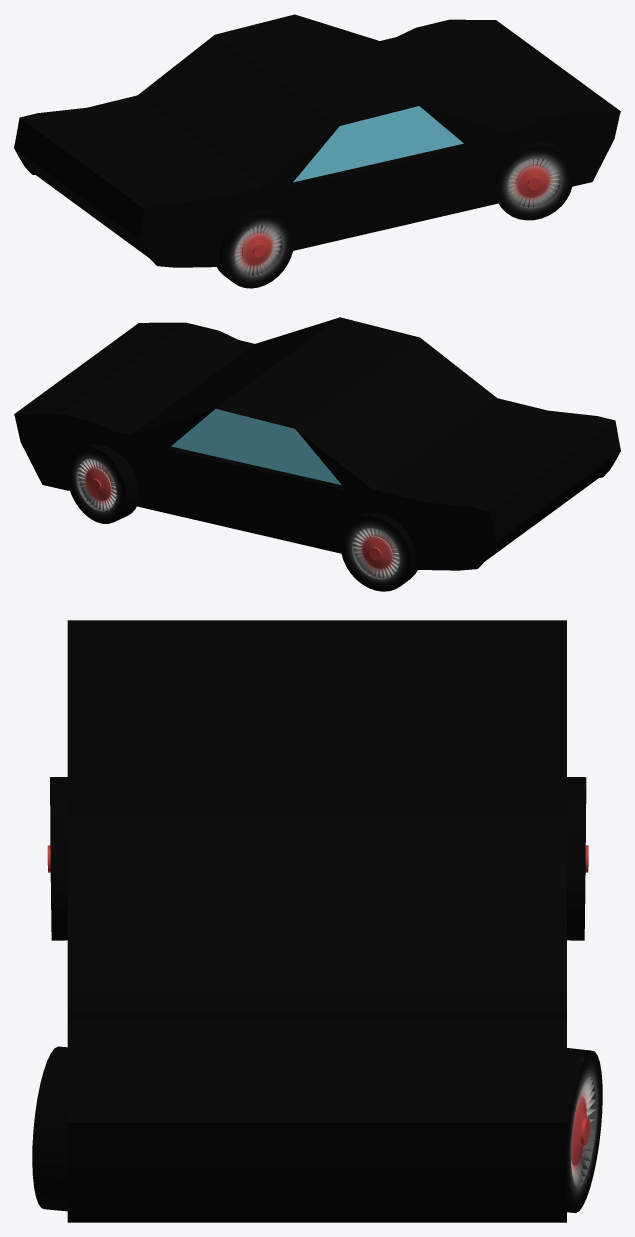
File: car.gltf
3 views of the same model, one above another, from view 1: azimuth 30°, elevation 25°; view 2: azimuth 150°, elevation 25°; view 3: azimuth 270°, elevation 25° (orthographic). The views are drawn at different scales.
Visible parts, largest first — view 1: Cube, Cylinder.001, Cylinder; view 2: Cube, Cylinder.002, Cylinder.003; view 3: Cube, Cylinder.001, Cylinder.003, Cylinder.002, Cylinder.
Boxes of the visible parts, x1,y1,x2,y2 form: Cube: (14, 14, 620, 267); Cylinder.001: (496, 141, 573, 220); Cylinder: (217, 209, 293, 288); Cube: (14, 317, 620, 570); Cylinder.002: (340, 512, 417, 591); Cylinder.003: (67, 444, 138, 523); Cube: (67, 620, 566, 1222); Cylinder.001: (32, 1046, 67, 1211); Cylinder.003: (567, 1048, 602, 1213); Cylinder.002: (567, 777, 588, 940); Cylinder: (47, 777, 67, 940).
Size of the model in its own units: 4.46 by 1.22 by 2.28.
6 materials, 4 textured.
